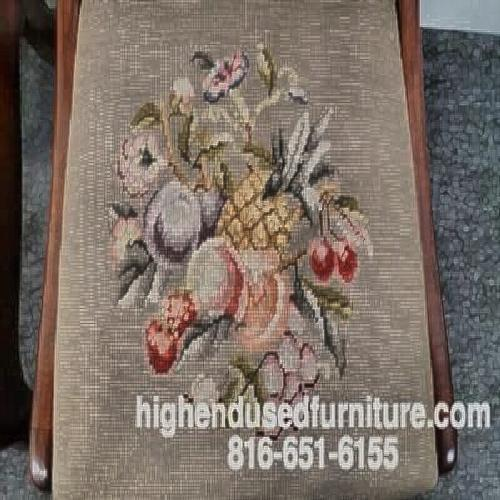chair: (59, 22, 443, 477)
